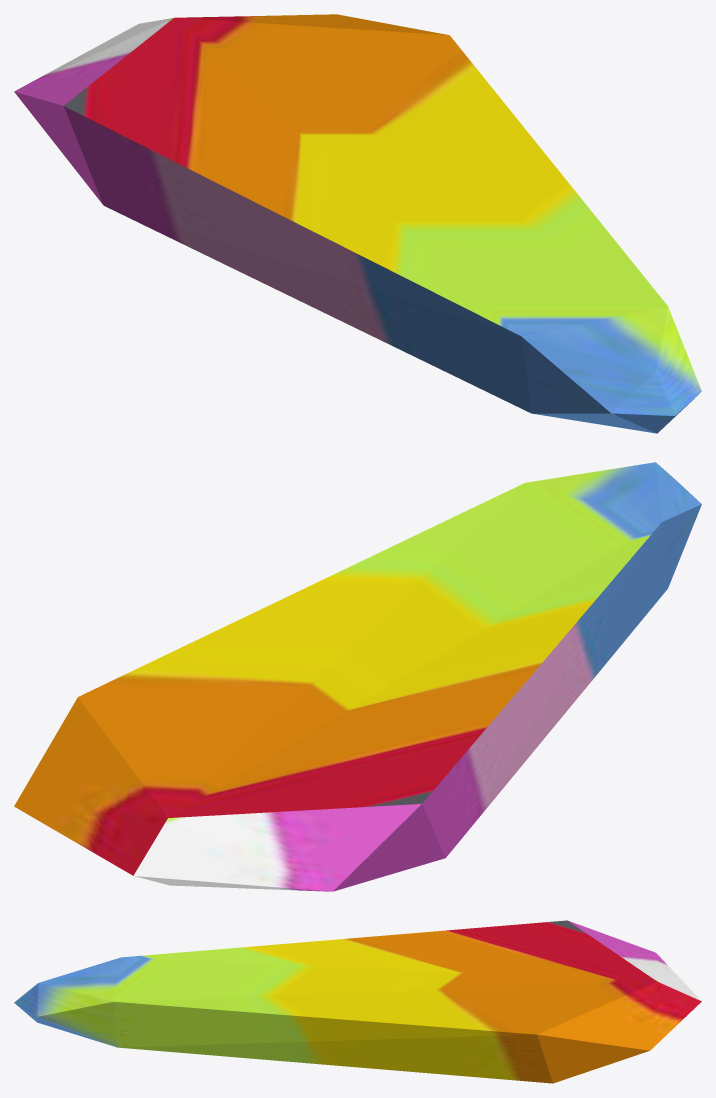
Rendered from Flipper.obj.
3 views of the same model, one above another, from view 1: azimuth 30°, elevation 25°; view 2: azimuth 150°, elevation 25°; view 3: azimuth 270°, elevation 25° (orthographic). The views are drawn at different scales.
Parts seen in each view (by area): view 1: Flipper_Cube; view 2: Flipper_Cube; view 3: Flipper_Cube.
Part boxes in pixels (x1,y1,x2,y2): Flipper_Cube: (14,14,701,433); Flipper_Cube: (14,462,701,891); Flipper_Cube: (14,920,701,1083).
Bounding box in the file's own units: 1.8 × 0.3735 × 4.59.
